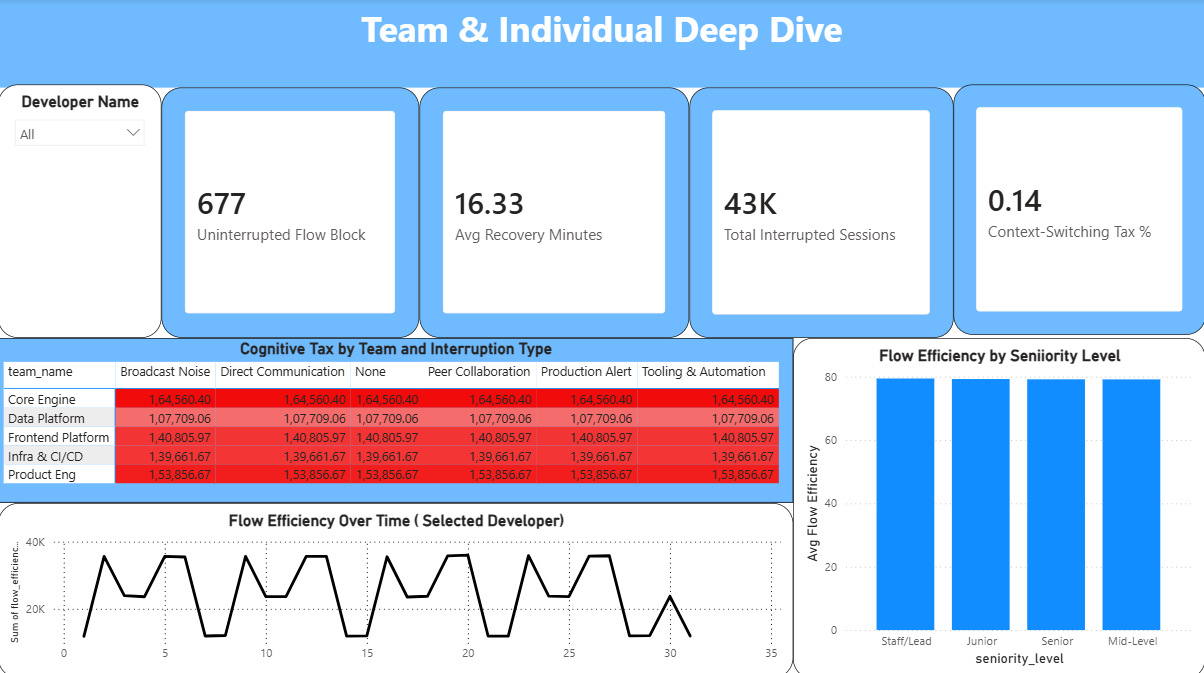

This screenshot's page, from the dashboard's own definition file:
{"tool":"powerbi","page":{"name":"Page 3","canvas":[1280,720],"ordinal":2},"visuals":[{"type":"textbox","box":[0,0,1280.8,93.9],"z":0},{"type":"slicer","title":"Developer Name","fields":{"Values":["Dim Developer.developer_name"]},"box":[0,90.7,173.3,268.8],"z":1000},{"type":"pivotTable","title":"Cognitive Tax by Team and Interruption Type","fields":{"Columns":["dim_interruption_cleaned.interruption_category"],"Rows":["Dim Developer.team_name"],"Values":["measures table (2).Total Cognitive Tax Minute"]},"box":[0,359.5,843,175],"z":2000},{"type":"lineChart","title":" Flow Efficiency Over Time ( Selected Developer)","fields":{"Category":["Dim Date.date.Variation.Date Hierarchy.Day"],"Y":["Sum(Fact Flow Daily.flow_efficiency_pct)"]},"box":[0,534.4,843,186.1],"z":3000},{"type":"cardVisual","title":"Uninterrupted Flow Block (90+min)","fields":{"Data":["measures table (2).Uninterrupted Flow Block"]},"box":[173.4,93.8,273.6,265.6],"z":4000},{"type":"clusteredColumnChart","title":" Flow Efficiency by Seniiority Level","fields":{"Category":["Dim Developer.seniority_level"],"Y":["measures table (2).Avg Flow Efficiency"]},"box":[843,359.5,437.4,361.1],"z":5000},{"type":"cardVisual","title":"Uninterrupted Flow Block (90+min)","fields":{"Data":["measures table (2).Avg Recovery Minutes"]},"box":[447,93.8,286.3,265.6],"z":6000},{"type":"cardVisual","title":"Uninterrupted Flow Block (90+min)","fields":{"Data":["measures table (2).Total Interrupted Sessions"]},"box":[733.3,93.8,279.9,265.6],"z":7000},{"type":"cardVisual","title":"Uninterrupted Flow Block (90+min)","fields":{"Data":["measures table (2).Context-Switching Tax %"]},"box":[1013.2,90.7,267.2,265.6],"z":7001}]}

Visuals, with their boxes in screenshot pixels (x1, y1, x2, y2), scaled from the page's 1280x720 canvas onto the 1204x673 screenshot:
textbox: [0,0,1203,88]
"Developer Name" slicer: [0,85,163,336]
"Cognitive Tax by Team and Interruption Type" pivotTable: [0,336,793,500]
" Flow Efficiency Over Time ( Selected Developer)" lineChart: [0,500,793,672]
"Uninterrupted Flow Block (90+min)" cardVisual: [163,88,420,336]
" Flow Efficiency by Seniiority Level" clusteredColumnChart: [793,336,1203,672]
"Uninterrupted Flow Block (90+min)" cardVisual: [420,88,690,336]
"Uninterrupted Flow Block (90+min)" cardVisual: [690,88,953,336]
"Uninterrupted Flow Block (90+min)" cardVisual: [953,85,1203,333]
